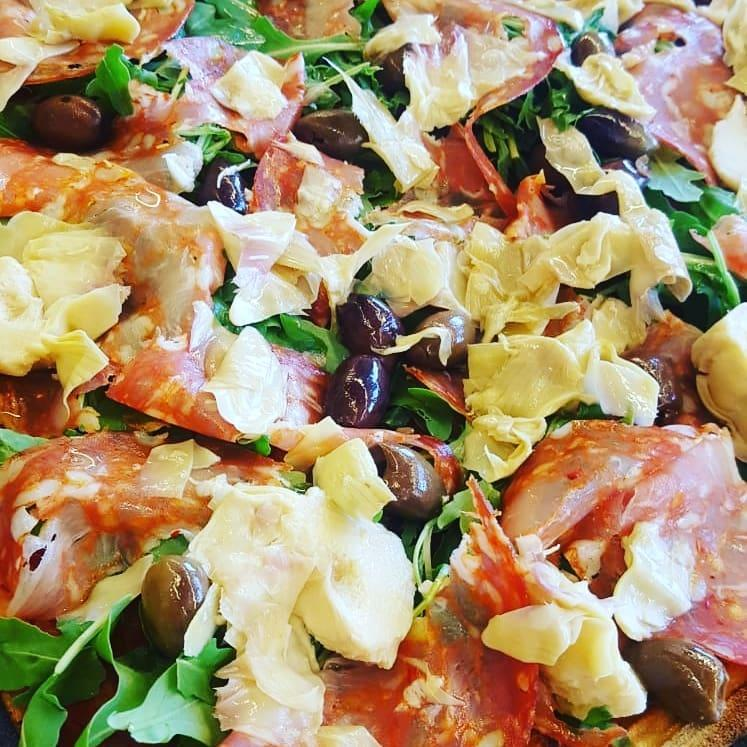Ham: (508, 418, 747, 620), (0, 428, 299, 545), (98, 311, 302, 454), (312, 643, 556, 747), (0, 0, 201, 88), (436, 0, 561, 133), (623, 0, 747, 133), (0, 158, 186, 214), (121, 214, 219, 310)
Olives: (621, 631, 739, 731), (138, 556, 214, 663), (332, 285, 410, 362), (371, 440, 445, 518), (569, 104, 659, 165), (317, 362, 393, 434), (288, 102, 372, 164), (31, 90, 104, 159), (193, 153, 248, 214), (367, 42, 414, 93), (572, 27, 621, 70)
Pizza: (0, 0, 747, 747)
